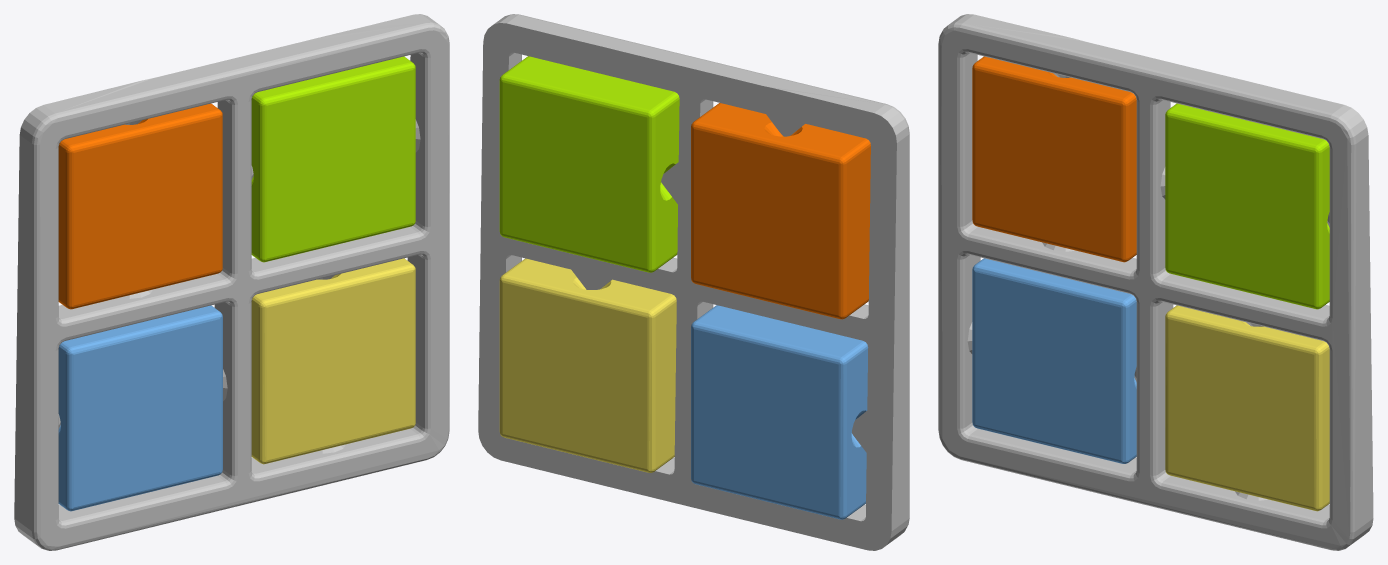
The model's file is Buttons.obj.
3 views of the same model, side by side, from view 1: azimuth 30°, elevation 25°; view 2: azimuth 150°, elevation 25°; view 3: azimuth 330°, elevation 25° (orthographic).
Visible parts, largest first — view 1: Object.1, Object.3, Object.5, Object.4, Object.2; view 2: Object.1, Object.3, Object.2, Object.4, Object.5; view 3: Object.1, Object.5, Object.3, Object.4, Object.2.
Boxes of the visible parts, x1,y1,x2,y2 form: Object.1: [14, 14, 449, 550]; Object.3: [251, 56, 415, 262]; Object.5: [58, 305, 222, 511]; Object.4: [251, 258, 415, 464]; Object.2: [58, 103, 222, 309]; Object.1: [478, 14, 909, 550]; Object.3: [499, 56, 679, 272]; Object.2: [691, 103, 870, 319]; Object.4: [499, 258, 676, 472]; Object.5: [691, 305, 868, 519]; Object.1: [938, 14, 1373, 550]; Object.5: [972, 258, 1136, 463]; Object.3: [1165, 103, 1329, 309]; Object.4: [1165, 305, 1329, 511]; Object.2: [972, 56, 1136, 262].
Size of the model in its own units: 40 by 40.03 by 5.75.
